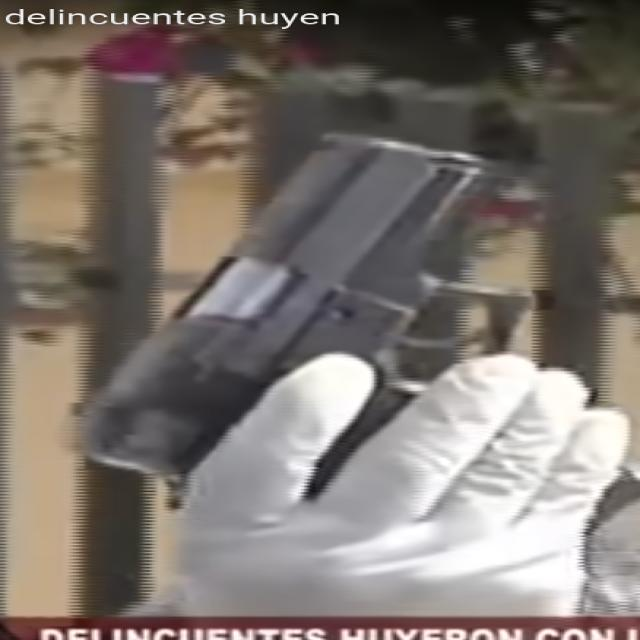Pistol: (41, 124, 640, 523)
